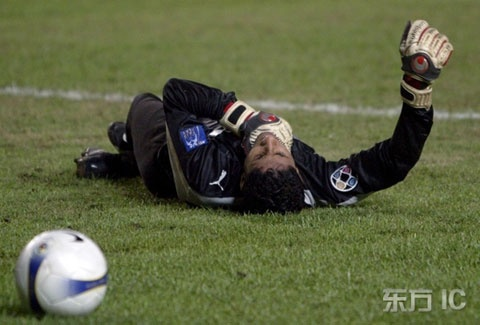falling: (67, 11, 459, 214)
